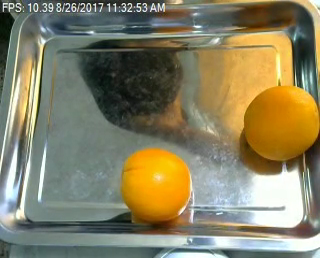Orange: (245, 85, 319, 160), (120, 146, 192, 221)
